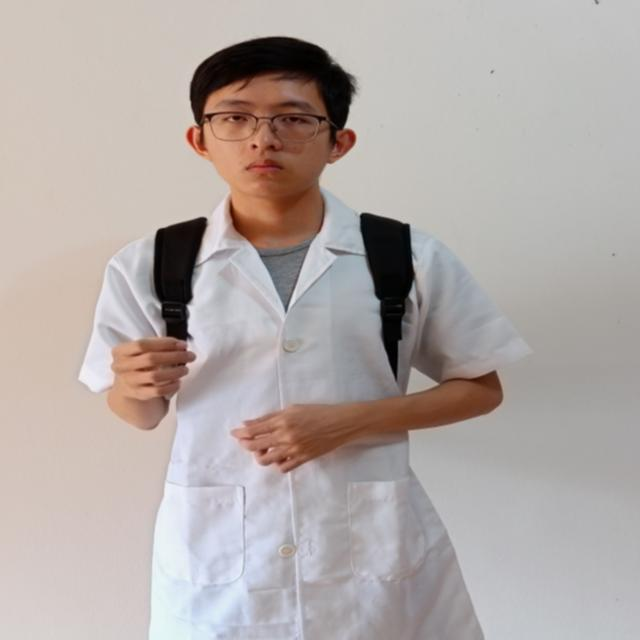person_with_labcoat: (80, 37, 530, 640)
